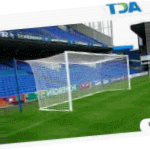goals: (30, 48, 133, 115)
